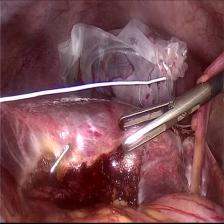Grasper: (113, 88, 199, 164)
Specimen Bag: (53, 17, 195, 107)
